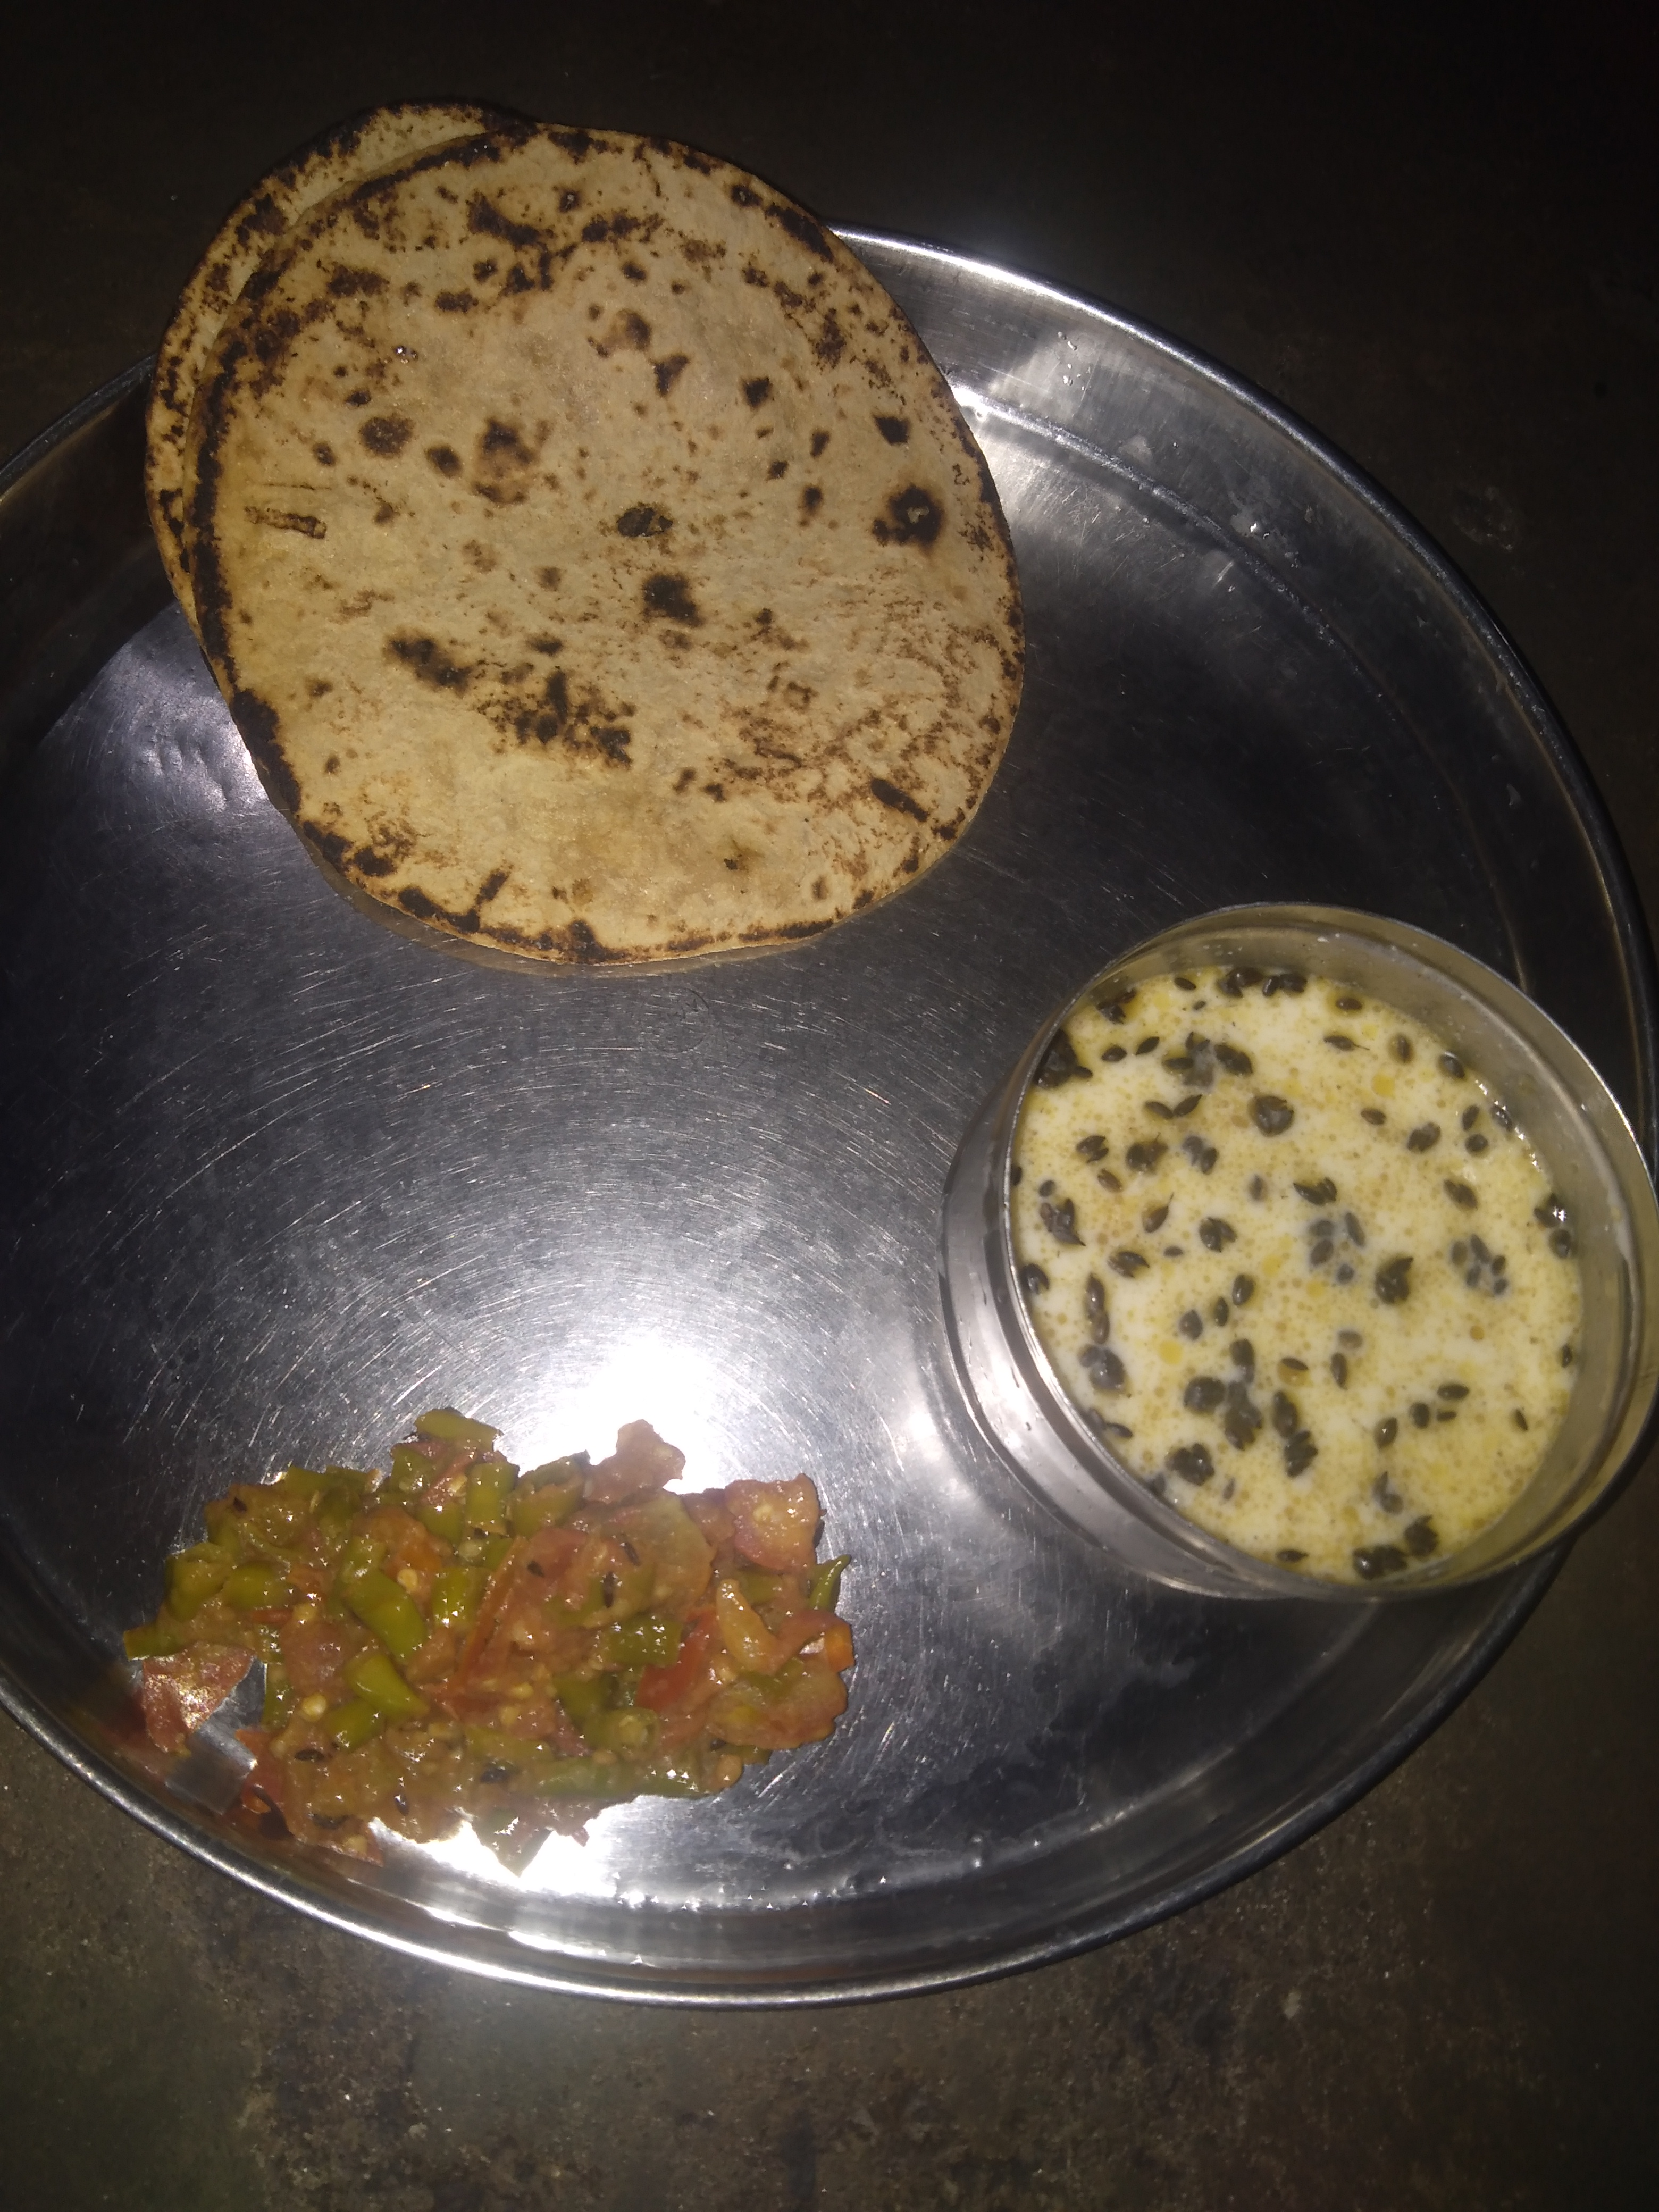food: (99, 89, 1654, 1879)
